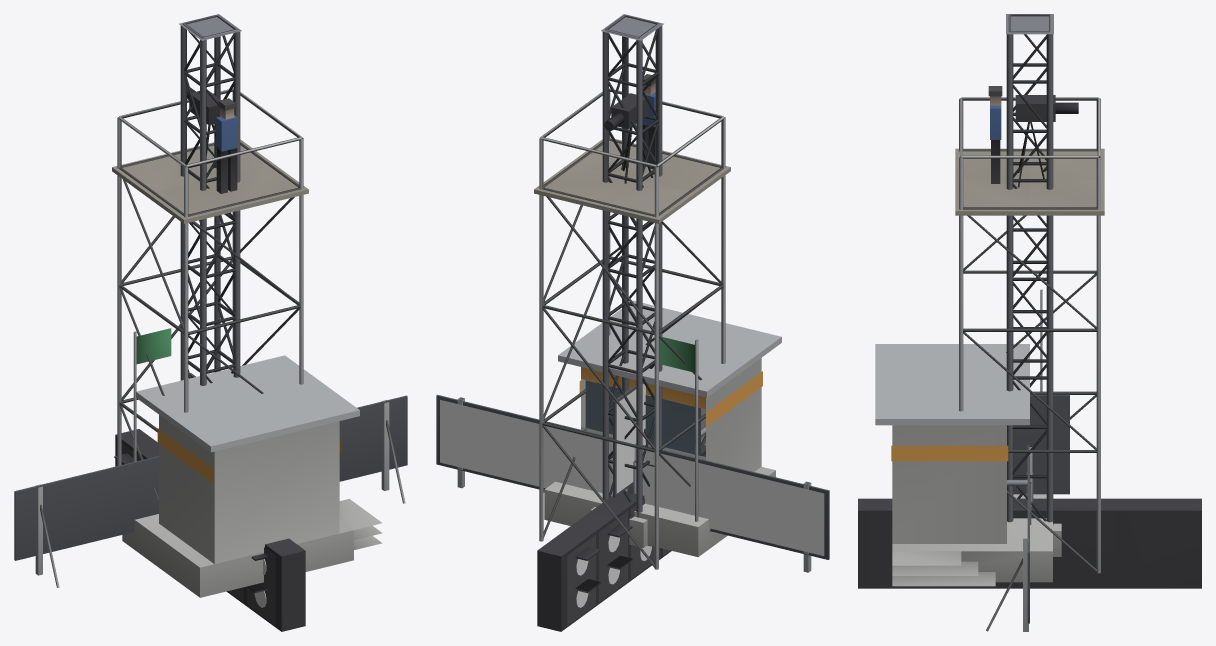
The model's file is trackside.glb.
3 views of the same model, side by side, from view 1: azimuth 30°, elevation 25°; view 2: azimuth 150°, elevation 25°; view 3: azimuth 270°, elevation 25° (orthographic). The views are drawn at different scales.
Visible parts, largest first — view 1: marshal-solid, tvtower-solid, advert-solid, post-solid, lights-solid; view 2: tvtower-solid, marshal-solid, advert-panel, post-solid, lights-solid, advert-solid, marshal-glass, brakeboard-panel; view 3: marshal-solid, tvtower-solid, lights-solid, post-solid, brakeboard-solid, advert-solid.
Boxes of the visible parts, <box> form: marshal-solid: <box>122,328,382,597</box>; tvtower-solid: <box>112,87,308,503</box>; advert-solid: <box>14,395,407,587</box>; post-solid: <box>179,14,241,385</box>; lights-solid: <box>114,429,305,631</box>; tvtower-solid: <box>534,74,730,569</box>; marshal-solid: <box>543,300,781,556</box>; advert-panel: <box>440,400,824,556</box>; post-solid: <box>590,14,663,547</box>; lights-solid: <box>537,445,705,631</box>; advert-solid: <box>436,394,829,572</box>; marshal-glass: <box>585,380,700,455</box>; brakeboard-panel: <box>616,384,650,493</box>; marshal-solid: <box>875,289,1052,586</box>; tvtower-solid: <box>955,86,1104,573</box>; lights-solid: <box>858,472,1201,588</box>; post-solid: <box>1006,14,1061,556</box>; brakeboard-solid: <box>1013,394,1069,506</box>; advert-solid: <box>986,456,1029,631</box>.
Size of the model in its own units: 8.16 by 10.77 by 6.
